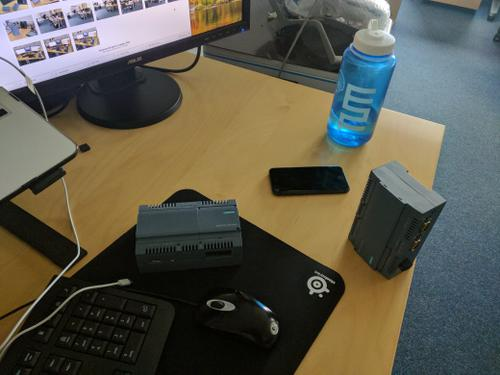device: (348, 160, 448, 281), (136, 200, 243, 274)
